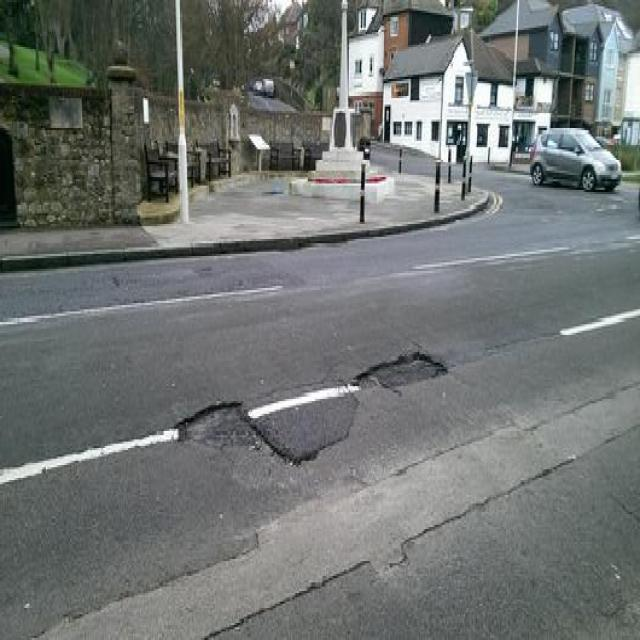Pothole: (176, 396, 257, 449), (359, 349, 452, 394)
